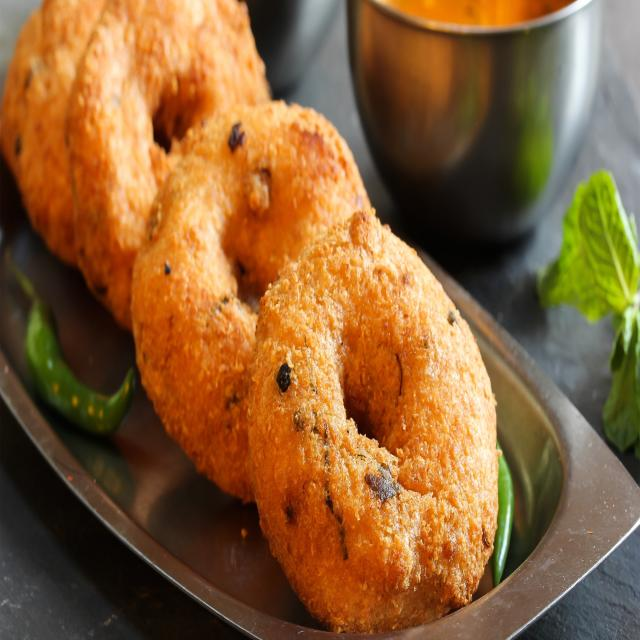MEDU VADA: (243, 199, 502, 630), (132, 99, 381, 501), (64, 0, 272, 322)
